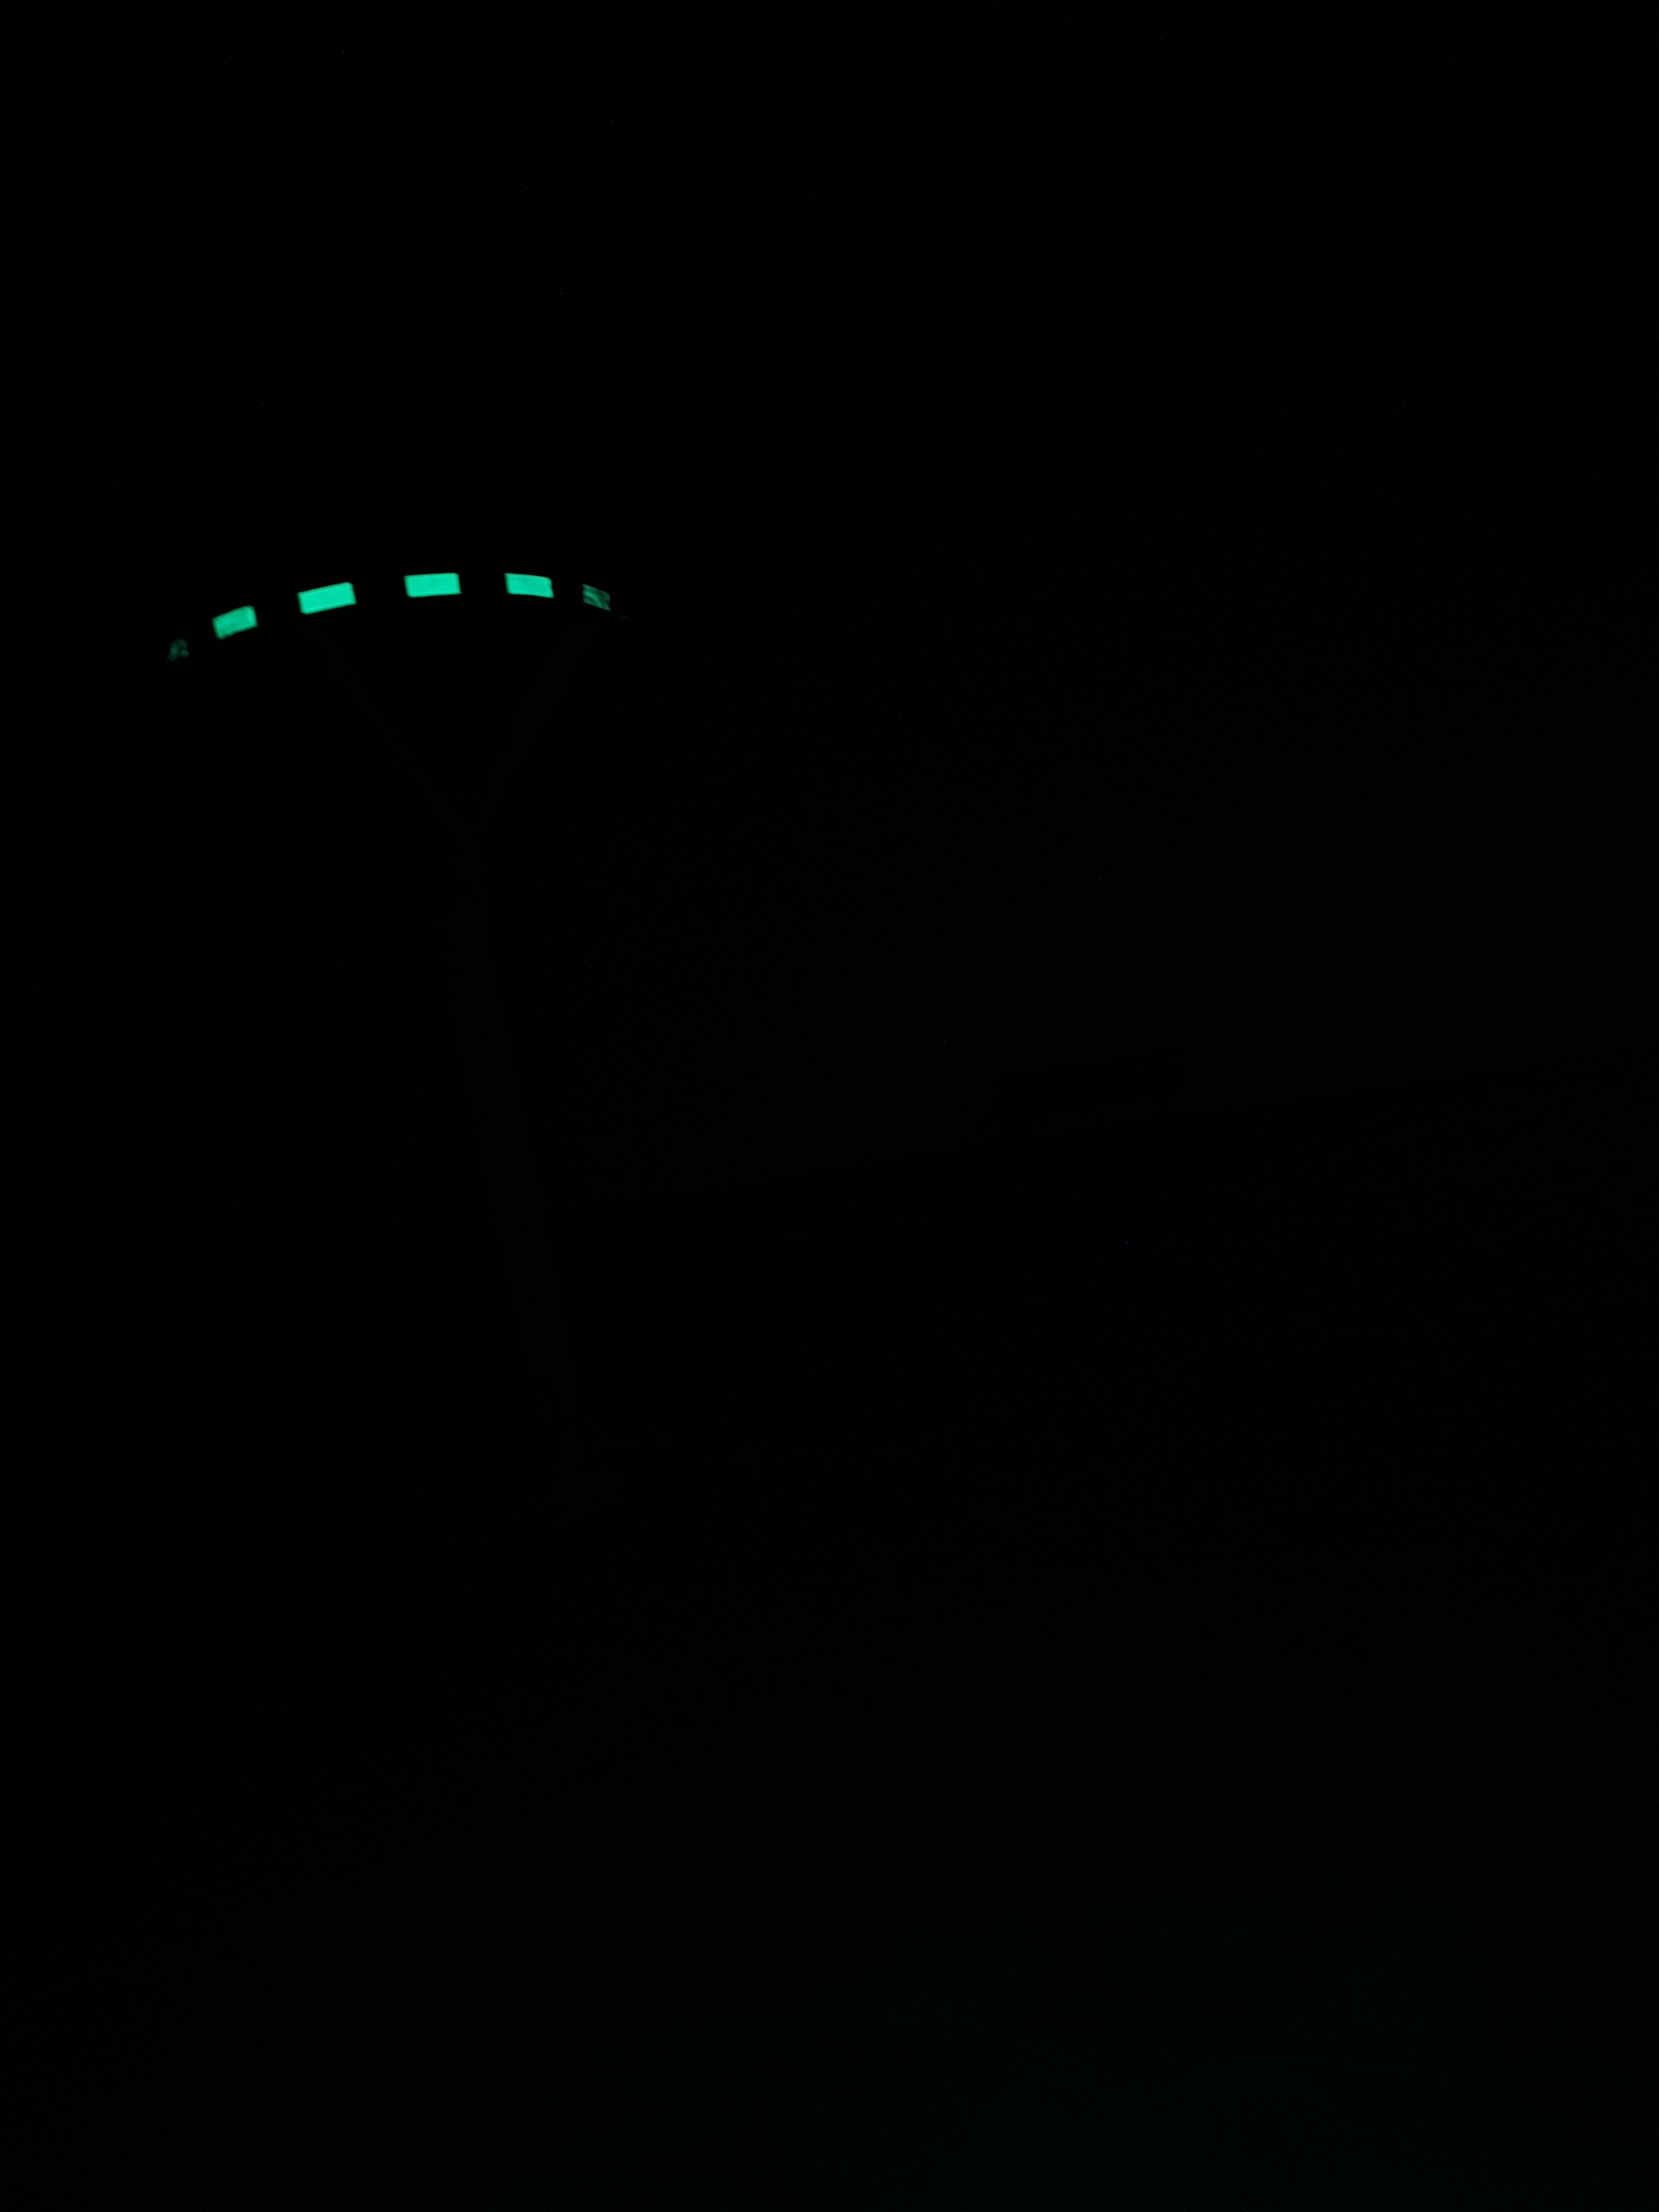hoop: (174, 571, 613, 657)
